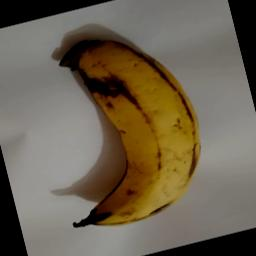Banana Unripe: (19, 16, 222, 242)
